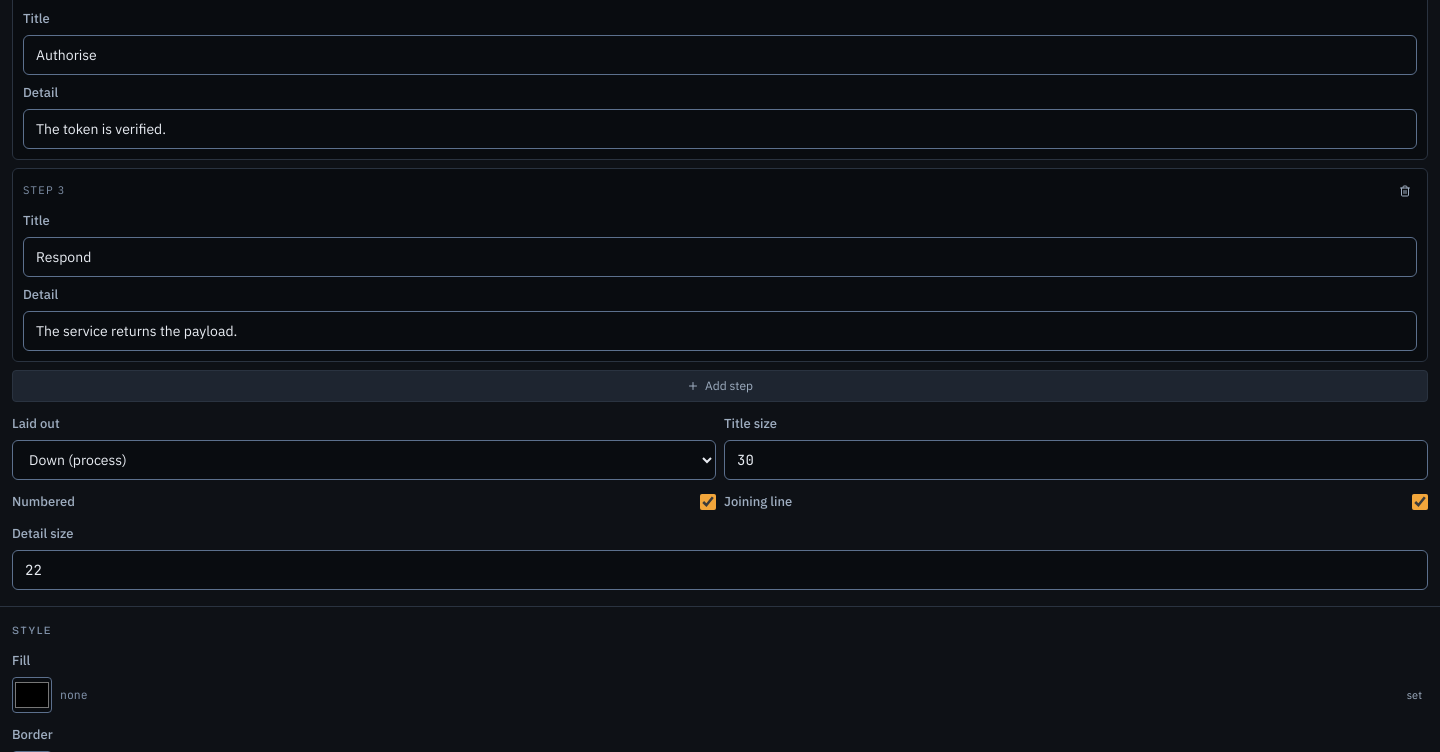
the steps editor › stops at the schema's maximum rather than producing an unsavable element
(page scrolled)
Click the button "Add step" at (720, 386), box x1=12 y1=370 x2=1428 y2=402
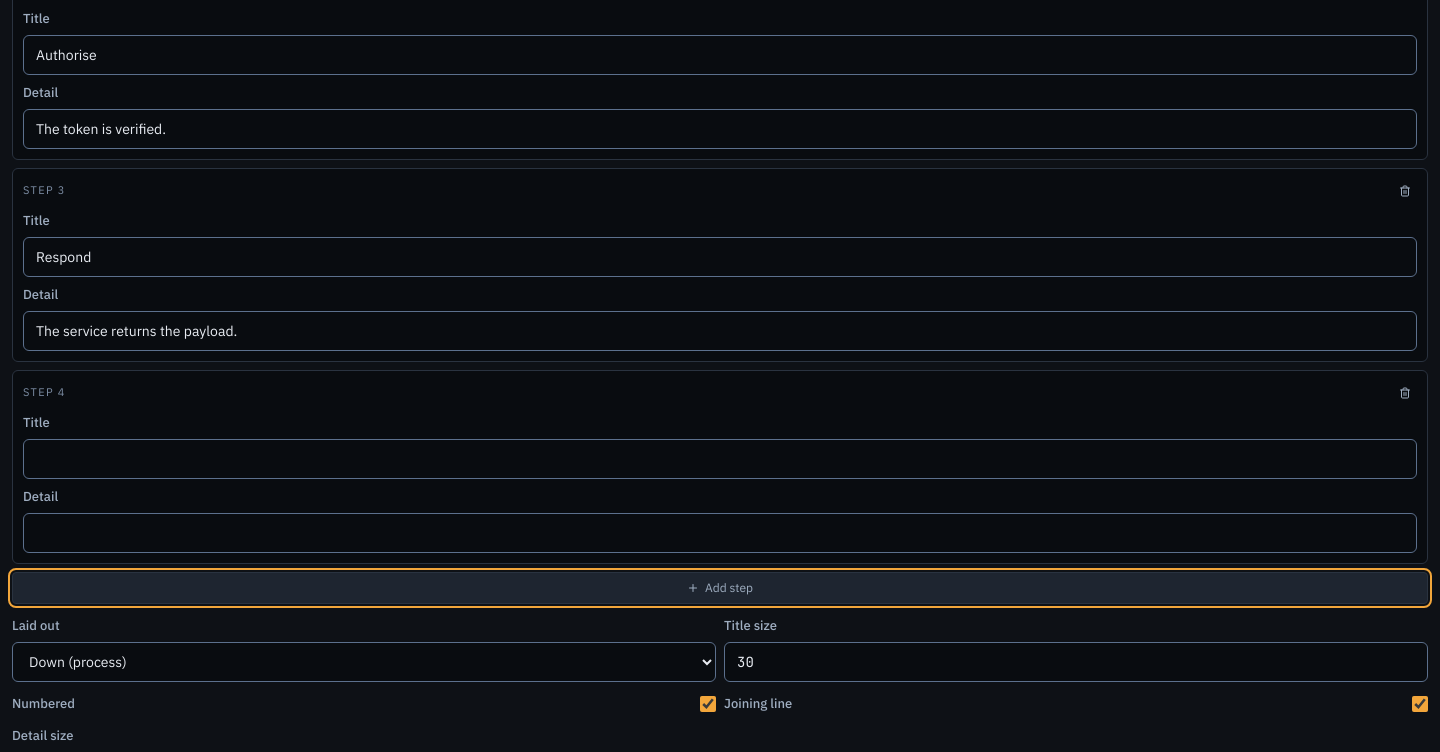
Click the button "Add step" at (720, 588), box x1=12 y1=572 x2=1428 y2=604
(page scrolled)
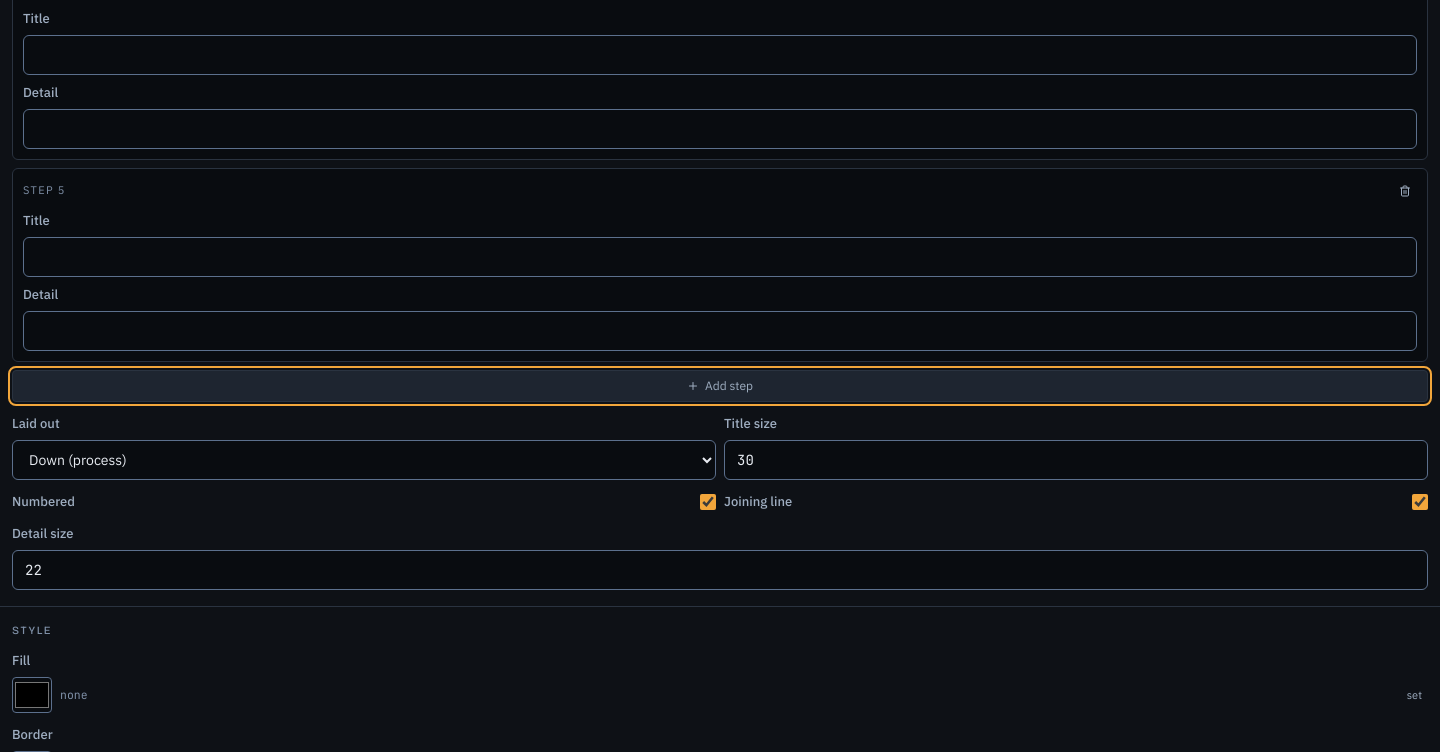
Click the button "Add step" at (720, 386), box x1=12 y1=370 x2=1428 y2=402
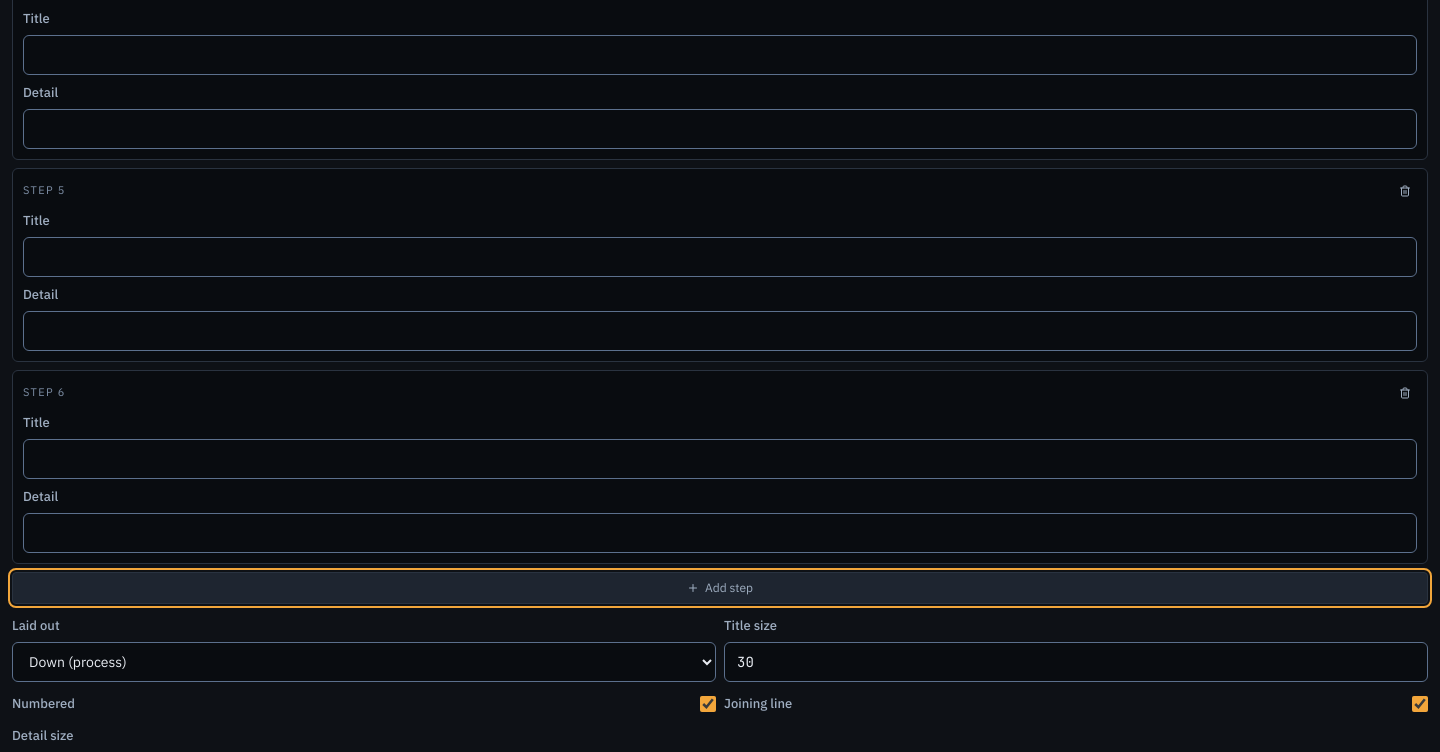
Click the button "Add step" at (720, 588), box x1=12 y1=572 x2=1428 y2=604
(page scrolled)
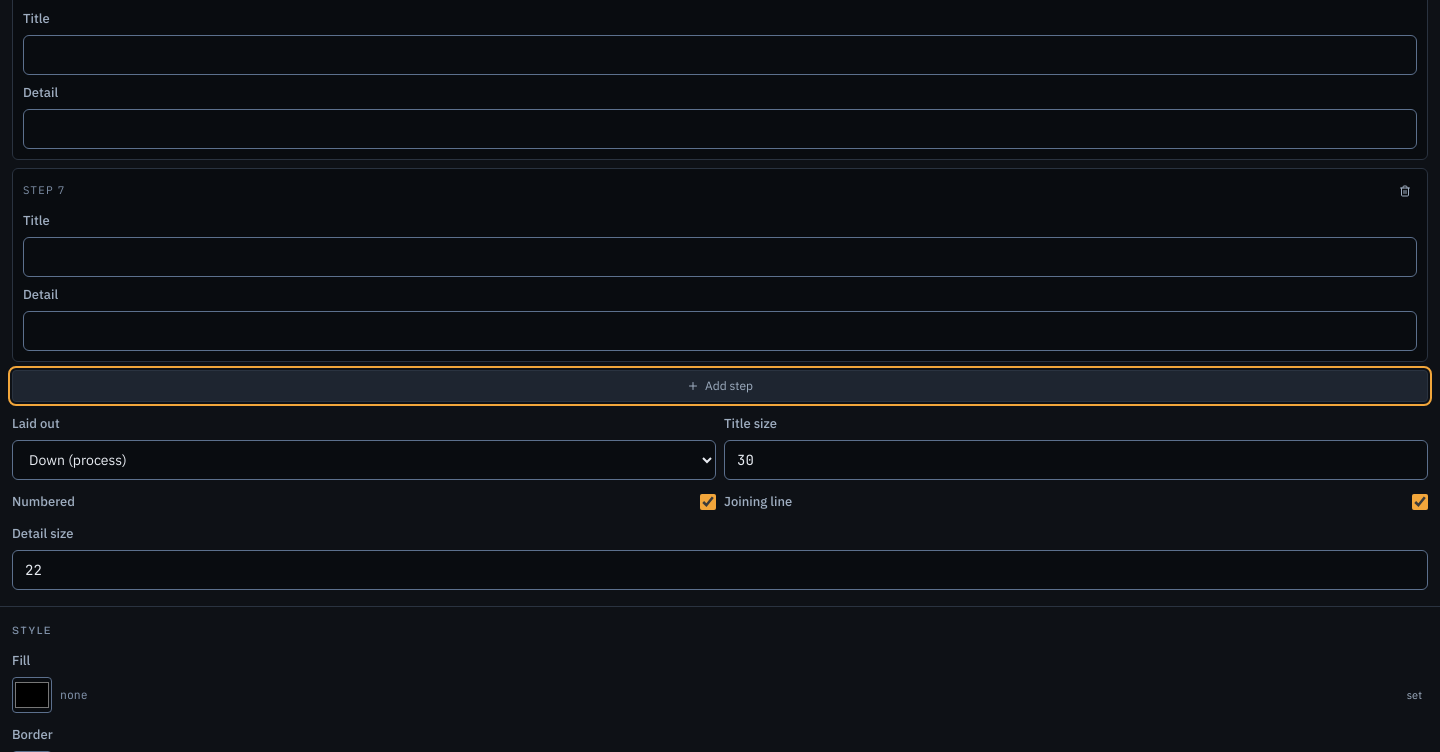
Click the button "Add step" at (720, 386), box x1=12 y1=370 x2=1428 y2=402
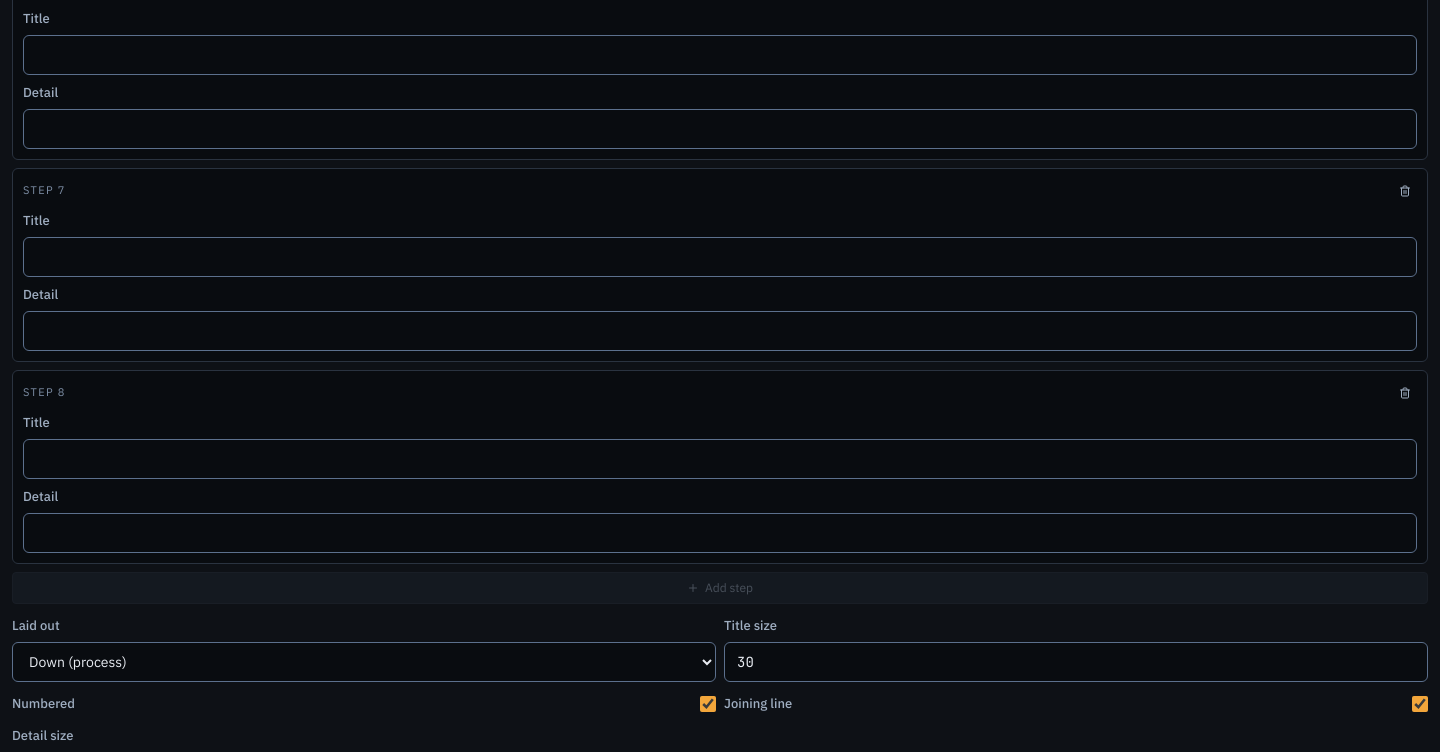
Check: the button "Add step" is disabled, box x1=12 y1=572 x2=1428 y2=604
